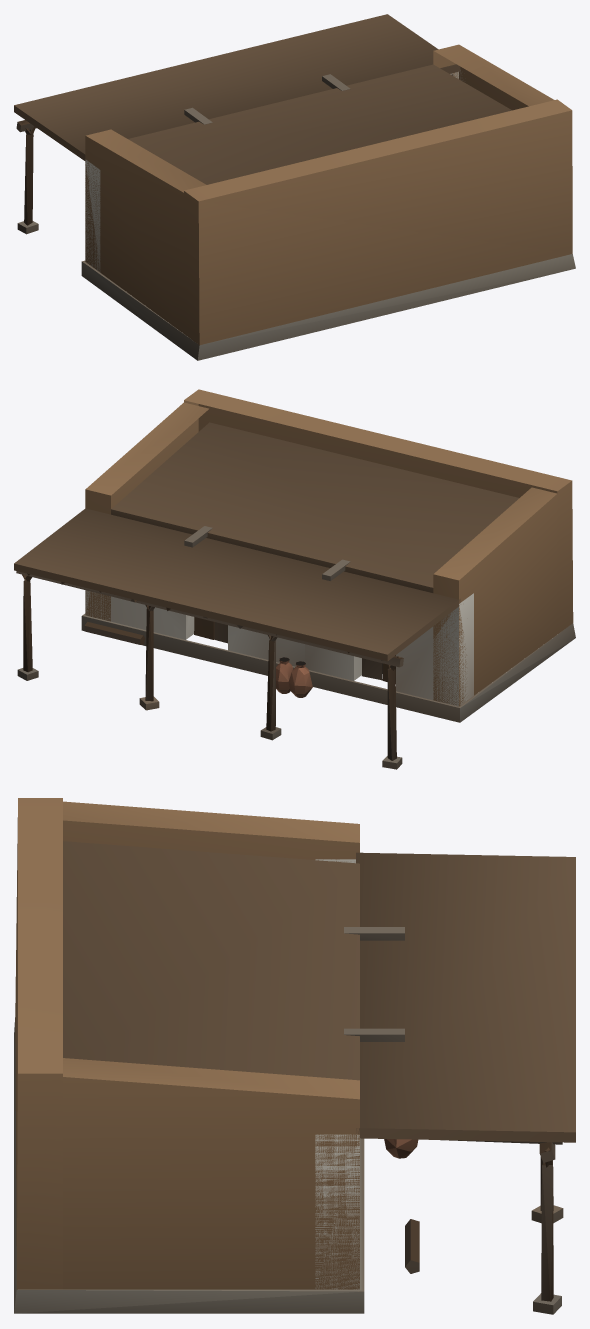
The model's file is casa_galeria_a_lod.glb.
3 renders of one model, top to bottom at view 1: azimuth 30°, elevation 25°; view 2: azimuth 150°, elevation 25°; view 3: azimuth 270°, elevation 25°, orthographic. The views are drawn at different scales.
Parts seen in each view (by area): view 1: casa_galeria_a; view 2: casa_galeria_a; view 3: casa_galeria_a.
Boxes of the visible parts, x1=… form: casa_galeria_a: x1=14, y1=14, x2=575, y2=360; casa_galeria_a: x1=14, y1=389, x2=575, y2=769; casa_galeria_a: x1=14, y1=798, x2=575, y2=1314.
Size of the model in its own units: 8.2 by 3.23 by 6.9.
